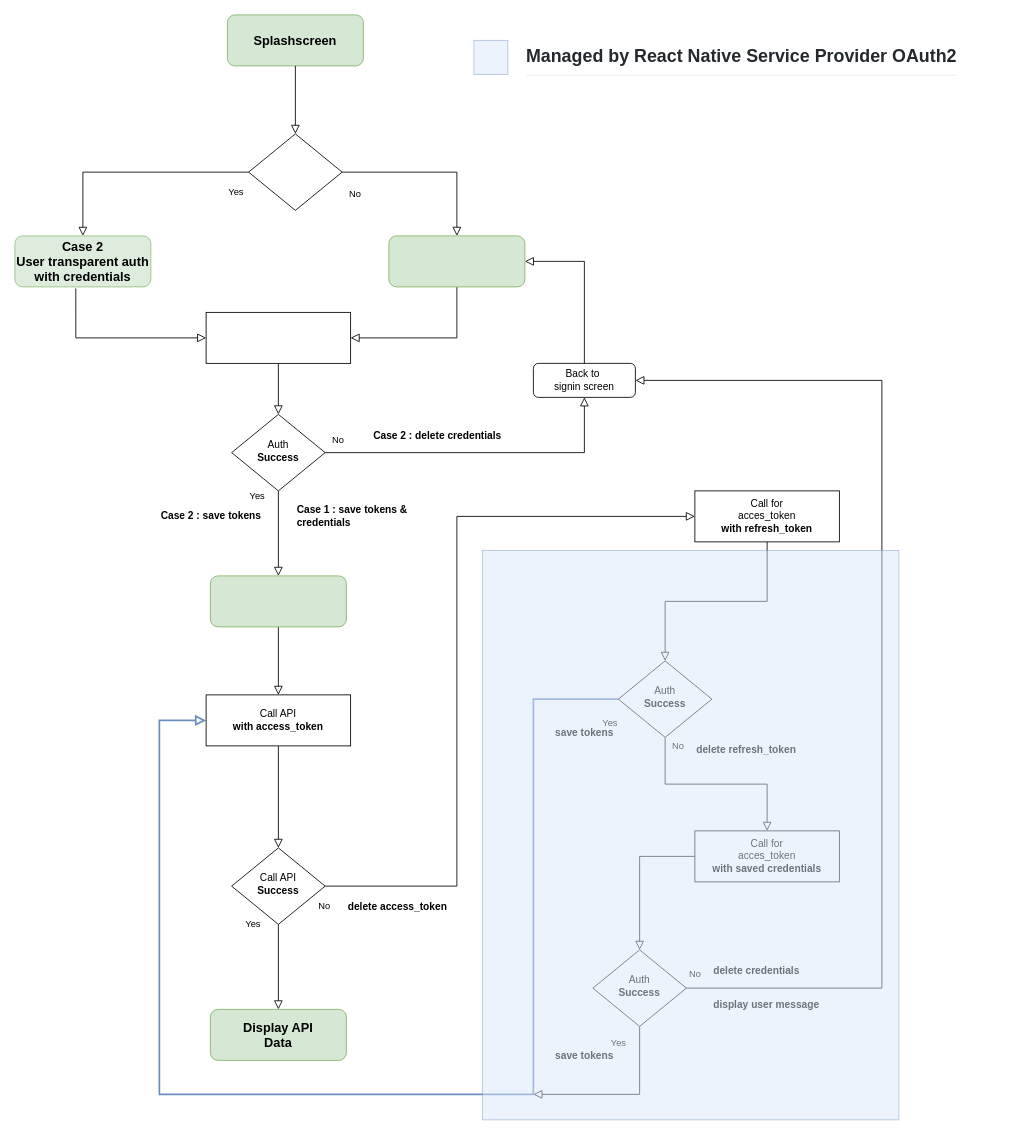
Image size: 1024x1135. Some labels were removed from this diagram. The shapes that lost their labels are listed below. From the top down, each one's box as (x1, y1, x2, y2) in pixels, then its label:
(248, 133, 342, 210): User has saved credentials
(388, 235, 525, 287): Case 1 Signin Screen
(205, 312, 351, 363): Call for acces_token with credentials
(210, 575, 346, 627): APP Navigation
(482, 550, 899, 1120): React Native Service Provider OAuth2 : User transparent Auth Workflow
